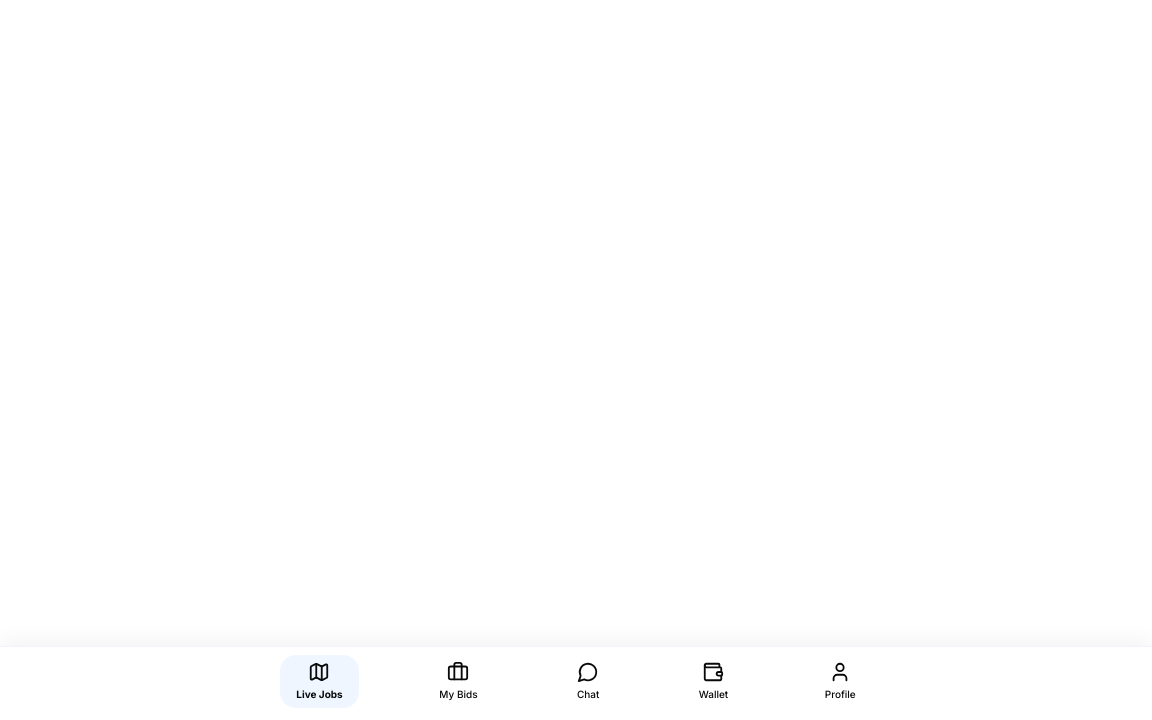
ProviderApp — shell top bar identity › prefers the provider profile identity over the auth identity once loaded
The image size is (1152, 720).
Step 1. Click the link "My Bids" → (458, 680), box x1=439 y1=661 x2=478 y2=700
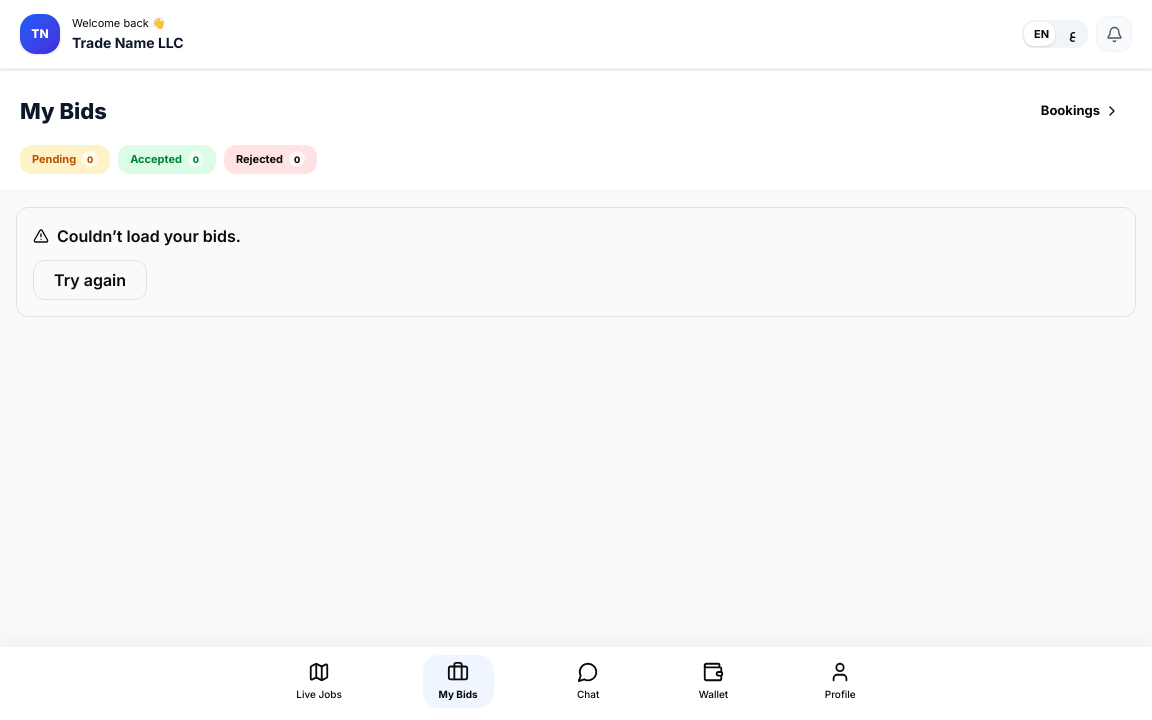
Result: the text "Trade Name LLC" is shown at x1=72 y1=32 x2=184 y2=53
